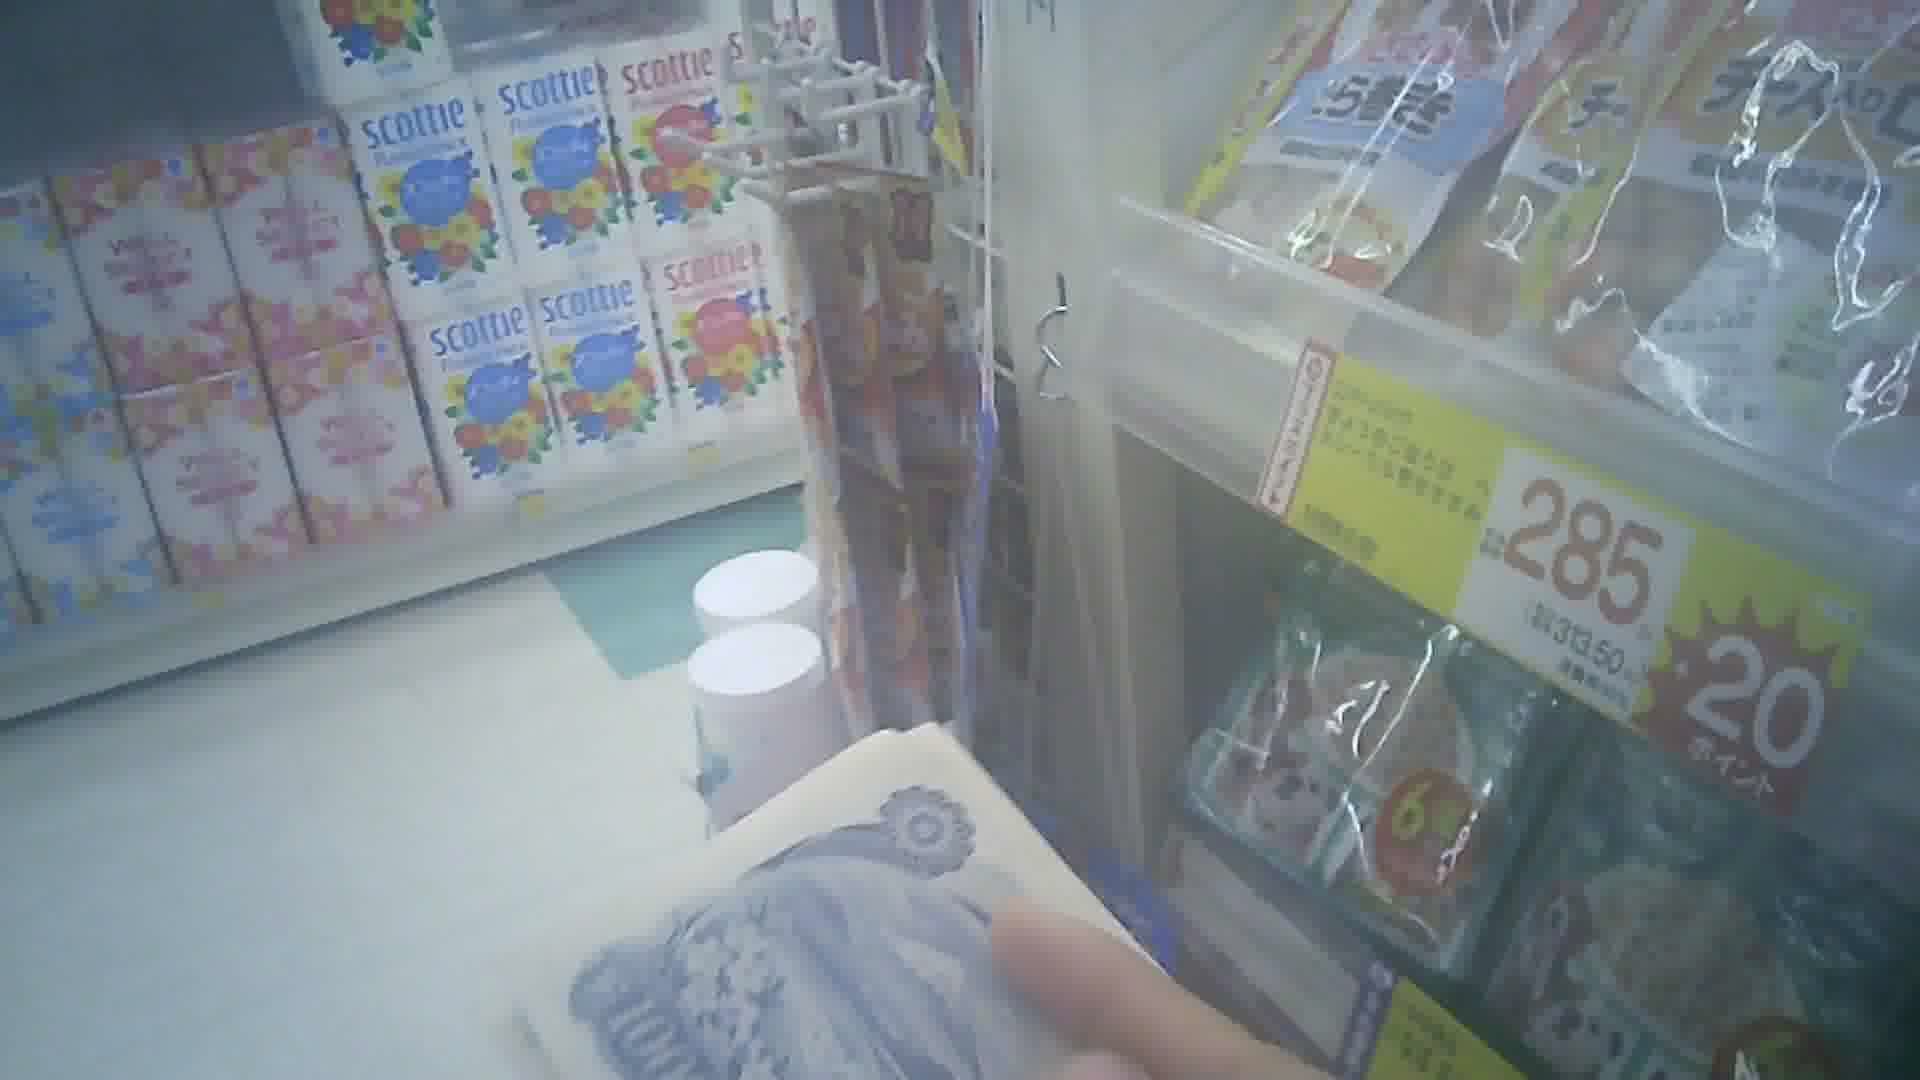1,000 Yen: (520, 716, 1153, 1077)
